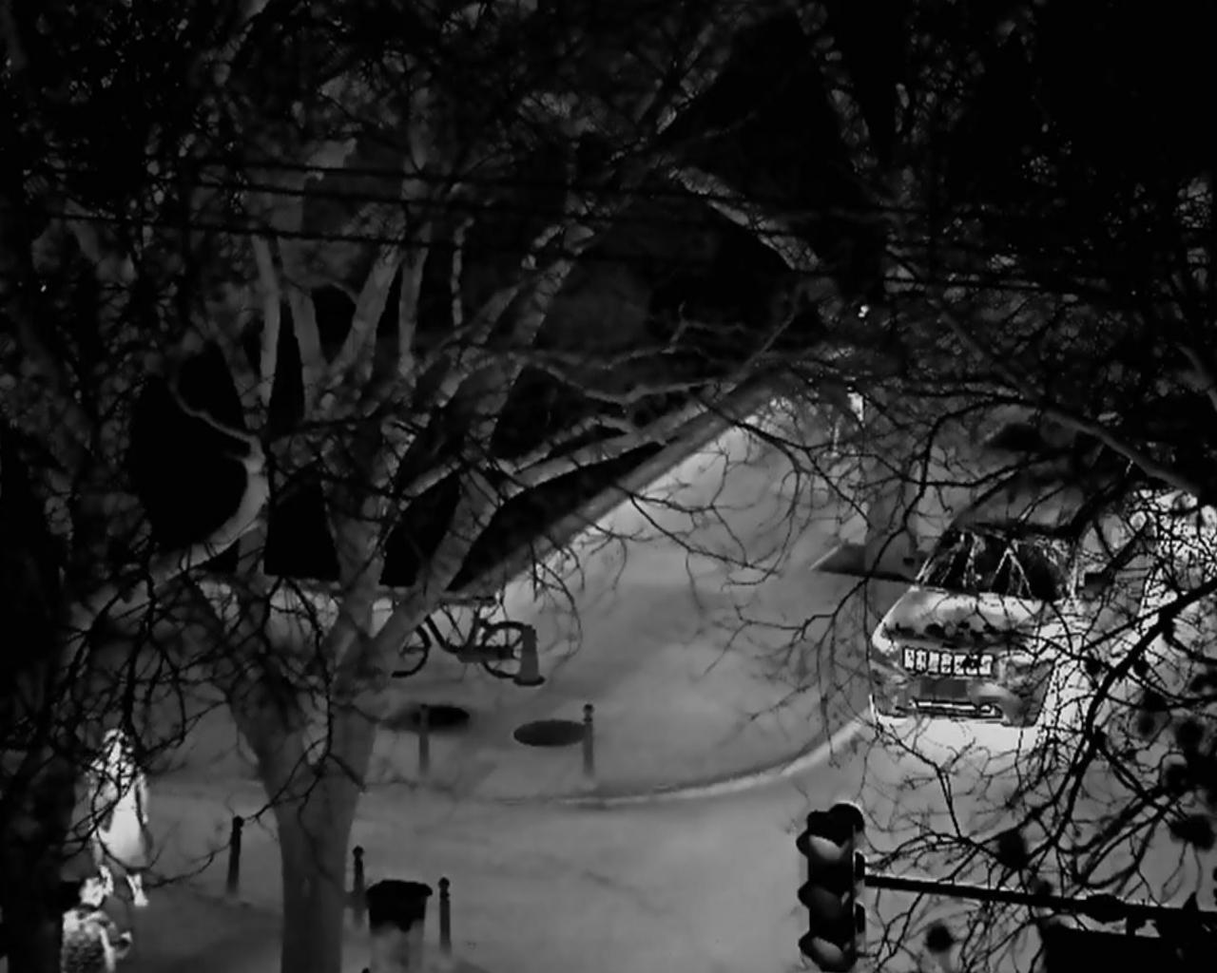person: (88, 726, 152, 910), (59, 871, 133, 973)
